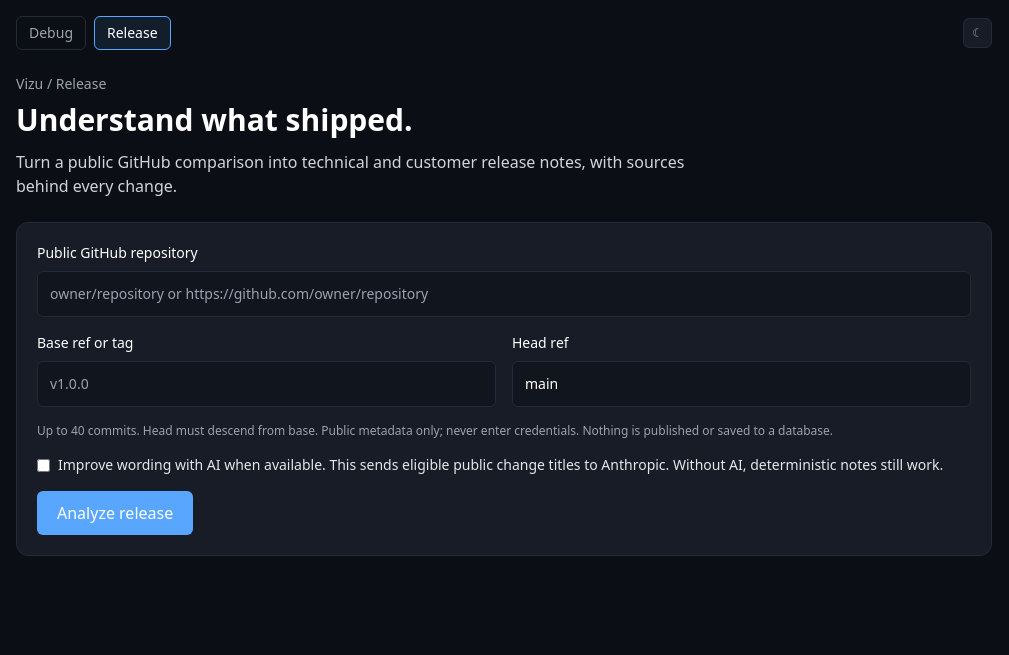
Test: Release interface › shows a friendly error when the server returns a non-JSON response
The width and height of the screenshot is (1009, 655).
Type "example/project" into the field labelled "Public GitHub repository".
click(504, 294); type("example/project")  # box [37,271,971,317]
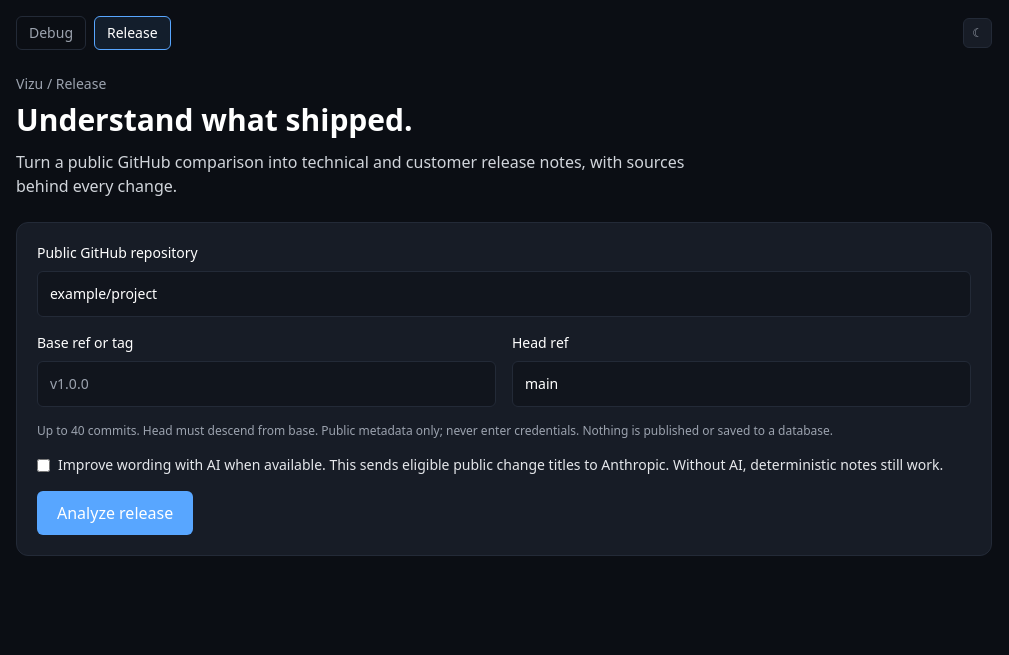
Type "v1" into the field labelled "Base ref or tag".
click(266, 384); type("v1")  # box [37,361,496,407]
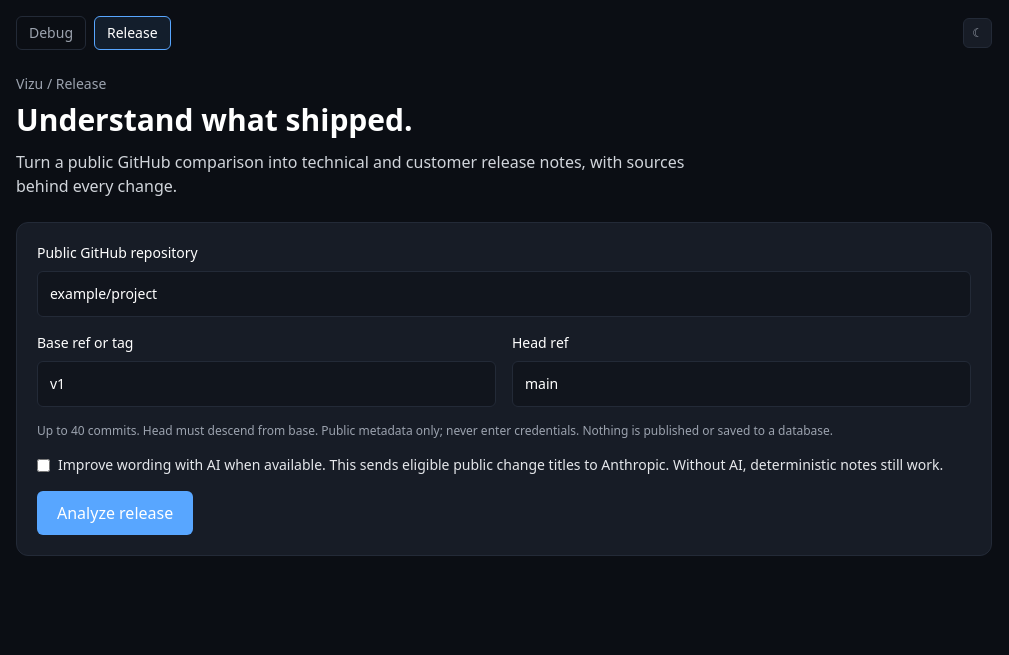
Click the button "Analyze release".
click(115, 513)  # box [37,491,193,535]
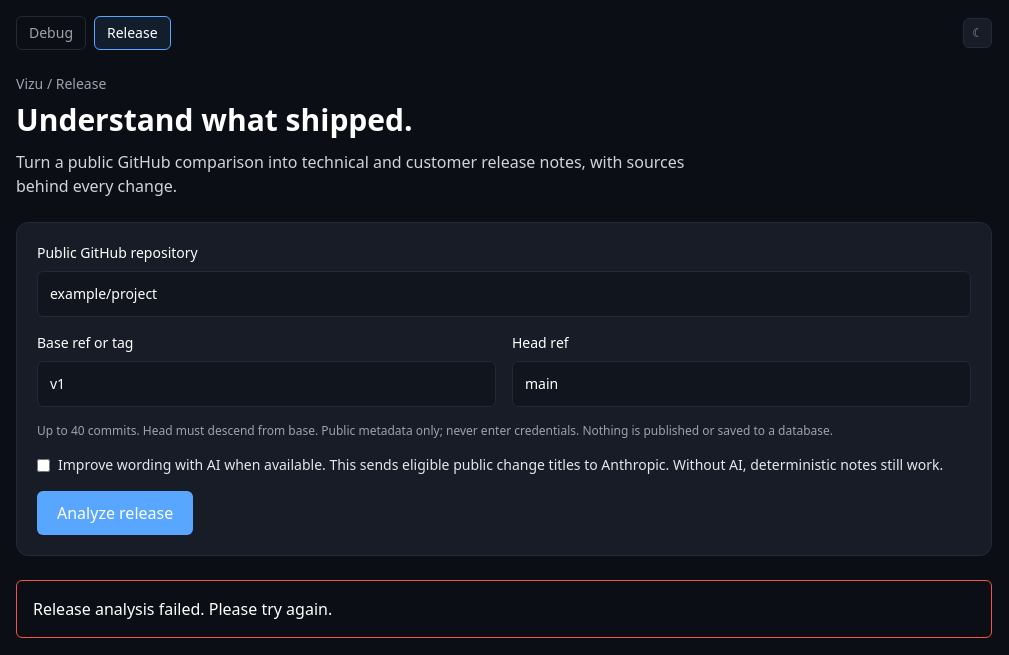
Check: the message does not show "Unexpected token", box [16,580,992,638]
Check: the message reads "Release analysis failed. Please try again.", box [33,598,332,620]
